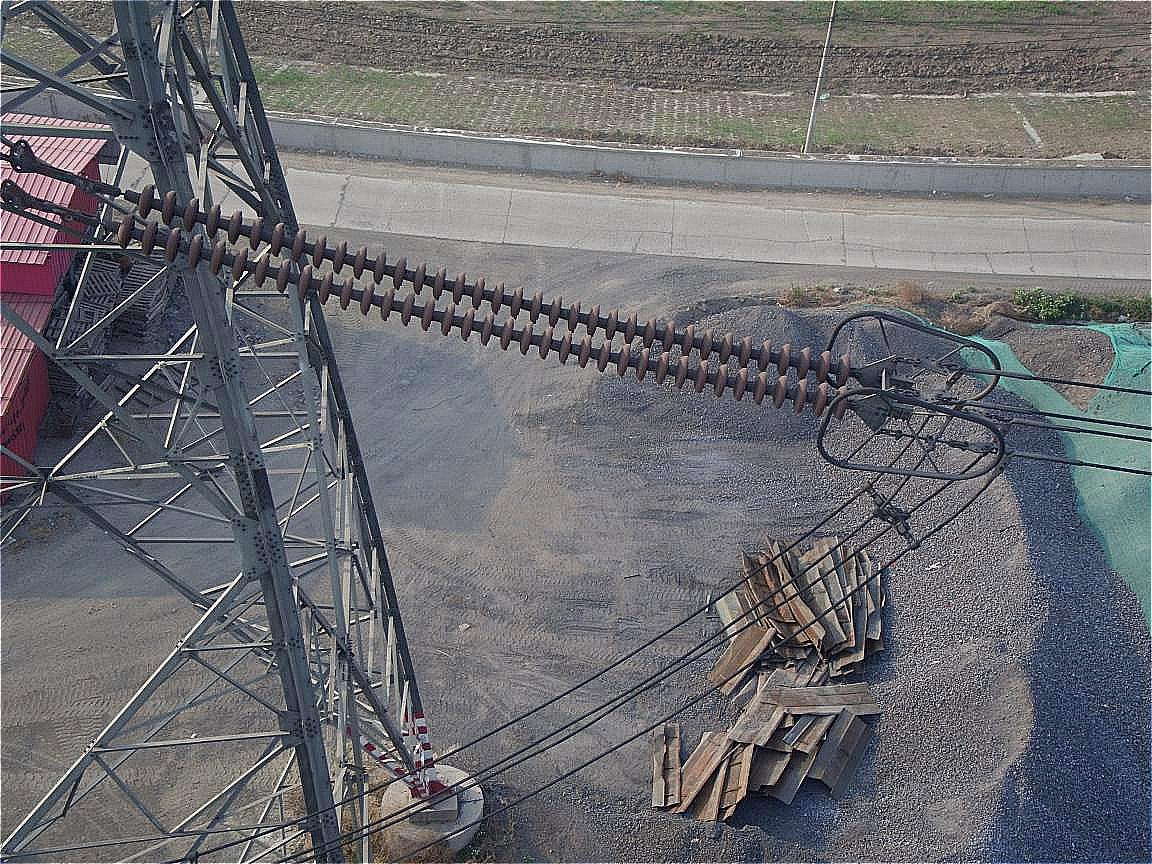insultor1: (90, 177, 881, 414)
